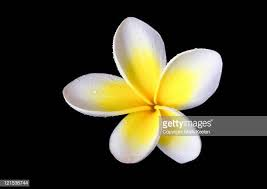frangipani: (62, 17, 225, 164)
